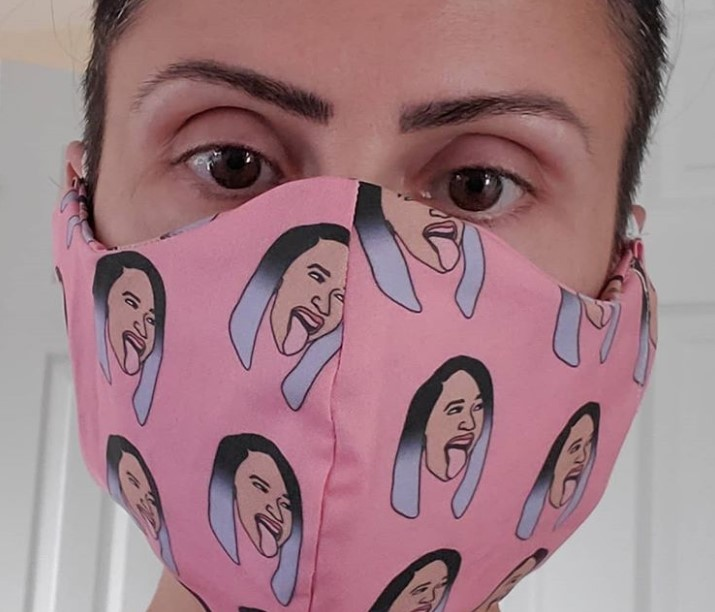face_with_mask: (53, 3, 657, 610)
